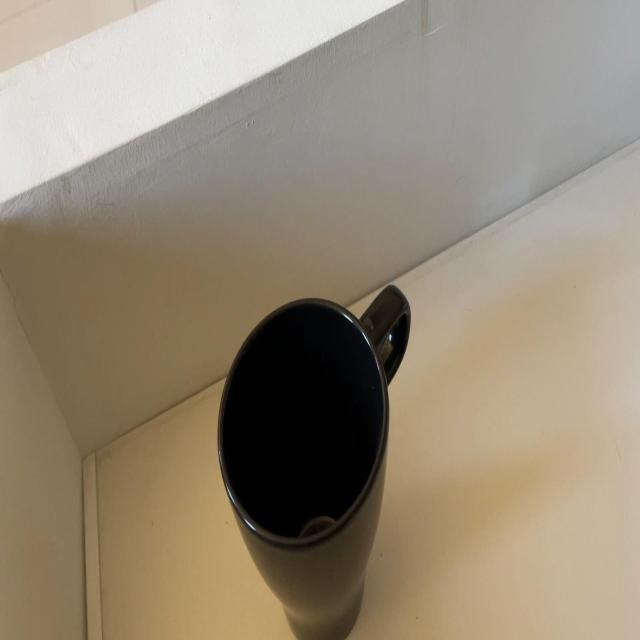cup: (199, 282, 411, 638)
